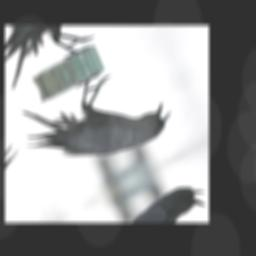Crow: (14, 47, 178, 196)
